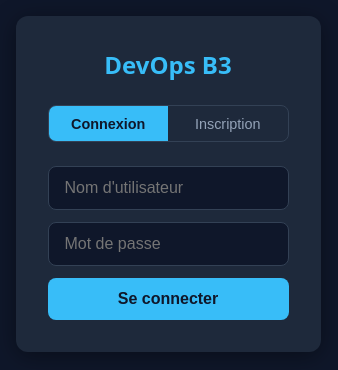
Test case: AuthForm – inscription › bascule sur Connexion après une inscription réussie
The image size is (338, 370).
Step 1. Click the button "Inscription" → [228, 124], box [168,106,288,141]
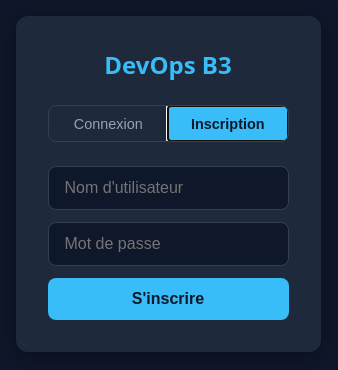
Step 2. Type "bob" into the field with placeholder "Nom d'utilisateur" → [168, 188], box [48,166,288,210]
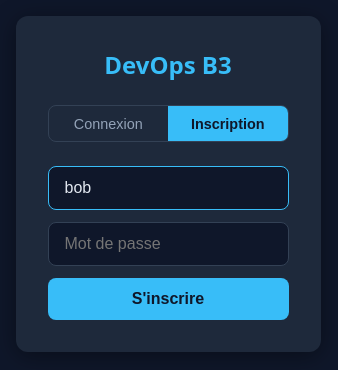
Step 3. Type "pass" into the password field with placeholder "Mot de passe" → [168, 244], box [48,222,288,266]
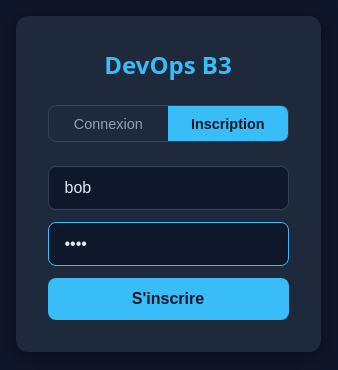
Step 4. Click the button "S'inscrire" → [168, 299], box [48,278,288,320]
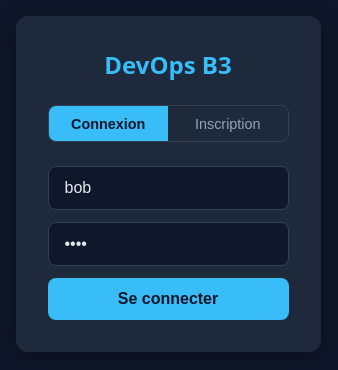
Expected: the button "Se connecter" is shown, [48,278,288,320]
